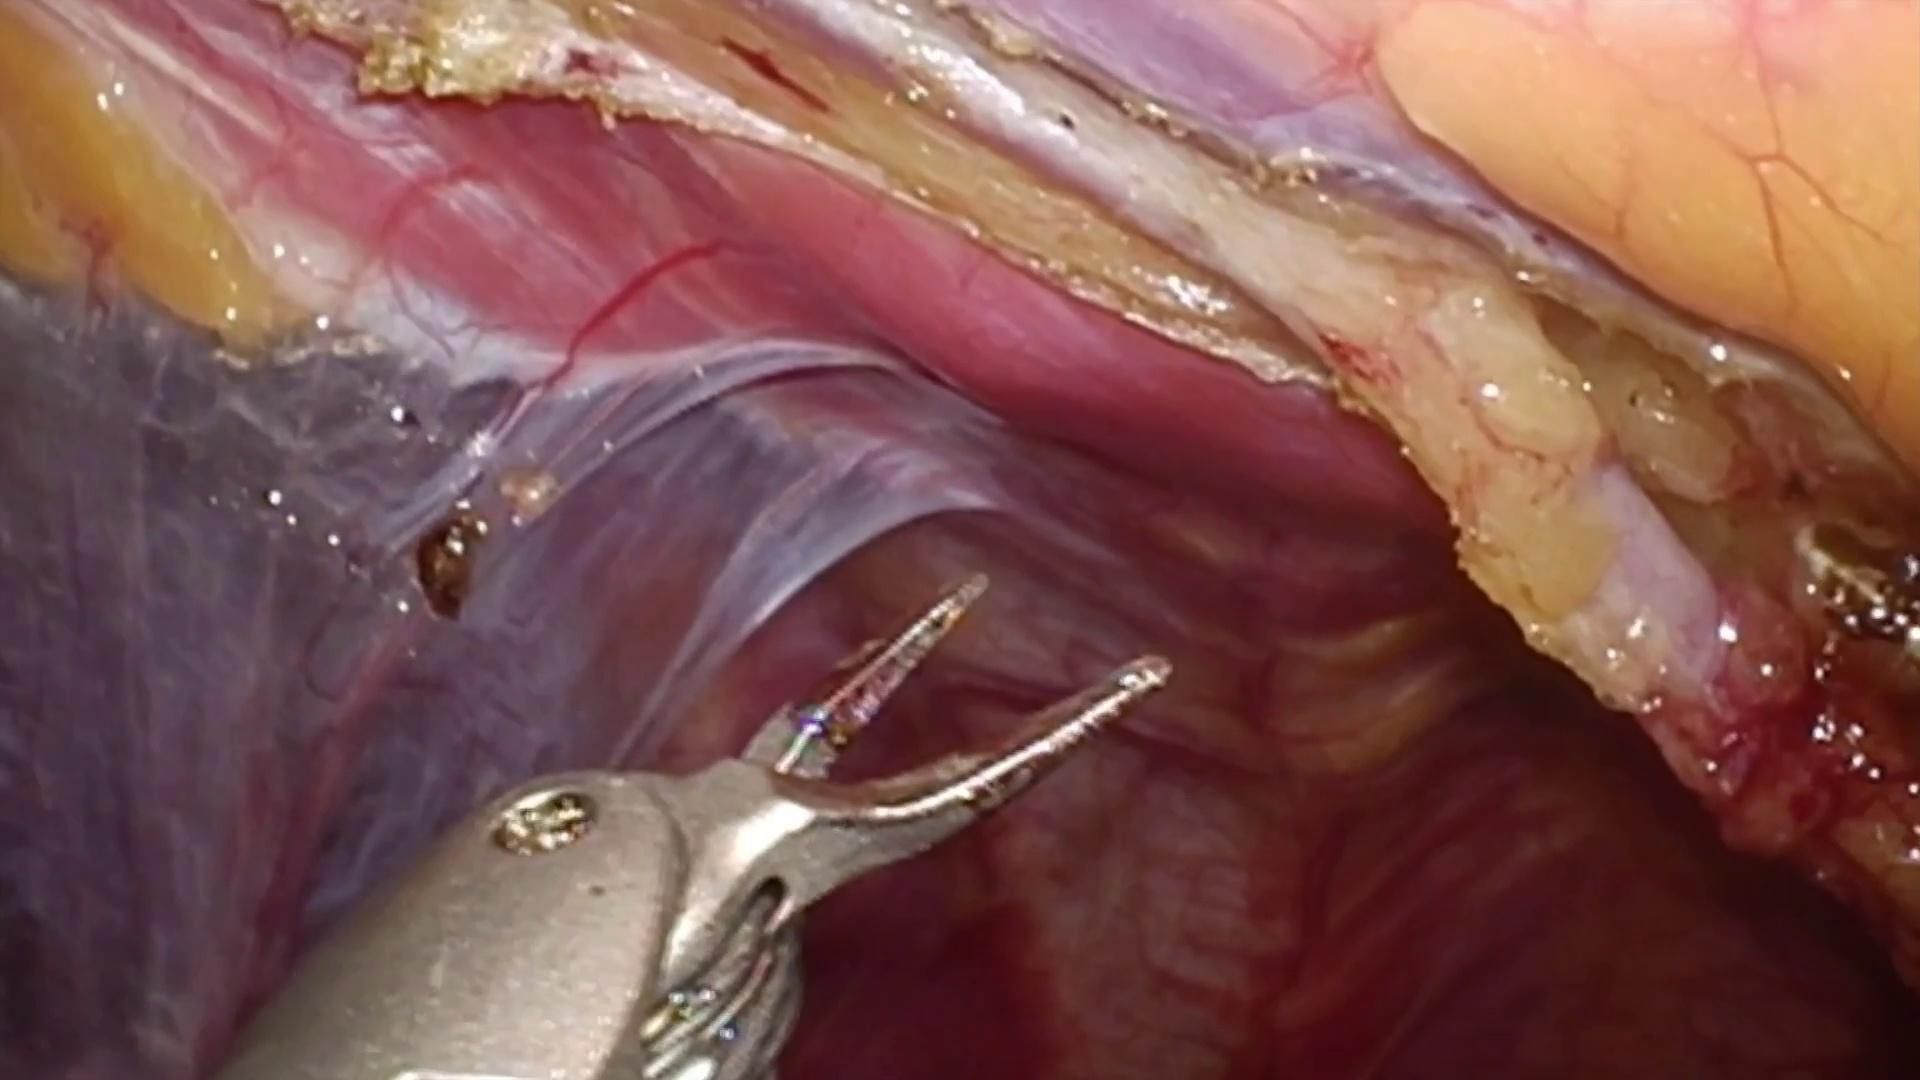Cautery_Spatula: (1796, 529, 1920, 724)
Debakey: (612, 545, 1191, 910)
